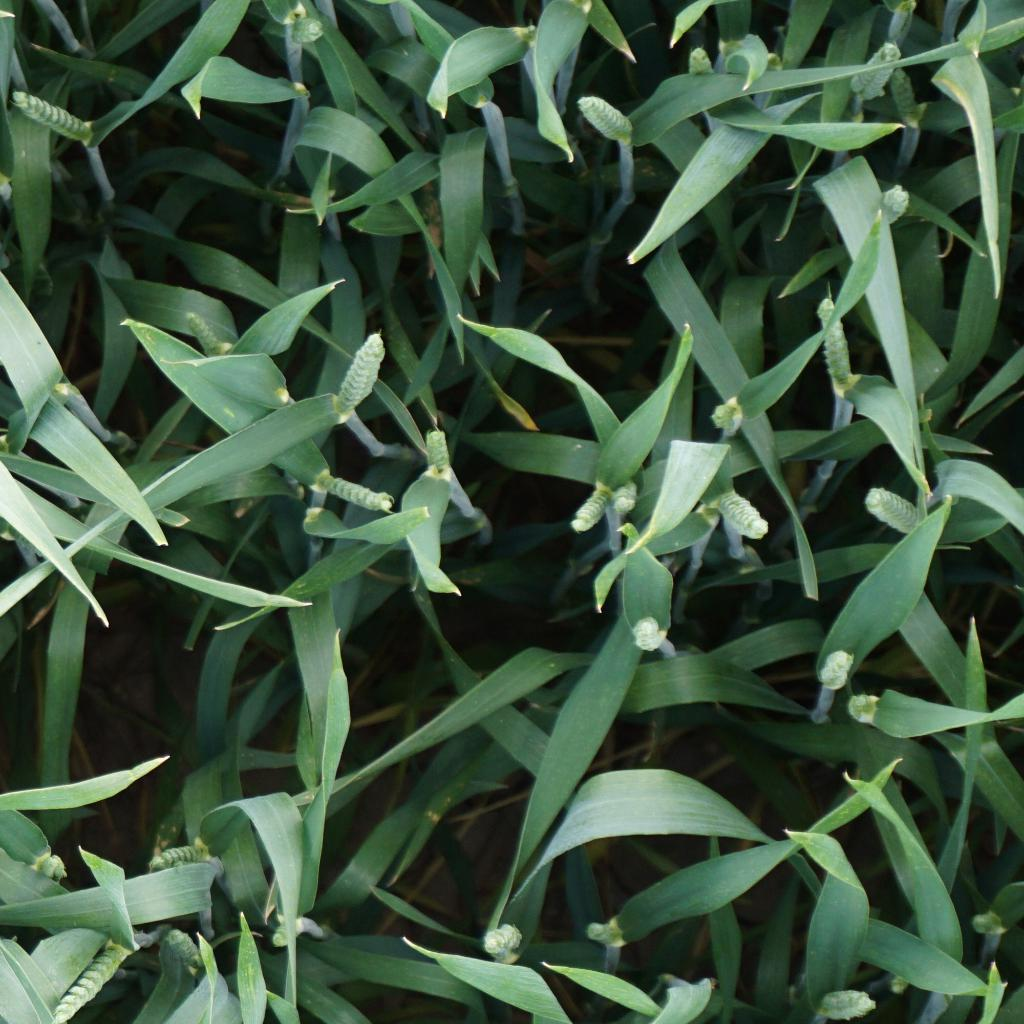0-0: (49, 937, 140, 1024), (327, 325, 390, 422), (9, 88, 99, 143), (316, 468, 403, 520), (840, 38, 904, 106), (817, 292, 856, 390), (712, 484, 771, 547), (574, 90, 639, 147), (178, 306, 235, 365), (876, 66, 926, 129), (865, 485, 925, 536), (143, 839, 220, 878), (472, 920, 538, 961), (809, 985, 880, 1021), (955, 907, 1013, 951), (569, 482, 614, 534), (812, 641, 855, 691), (266, 907, 315, 950), (415, 425, 455, 476), (583, 910, 632, 950), (841, 685, 887, 727), (875, 179, 912, 231), (627, 613, 669, 654), (30, 848, 74, 885), (283, 11, 327, 46), (162, 928, 200, 968), (604, 475, 642, 512), (684, 46, 721, 83), (708, 400, 744, 435)
